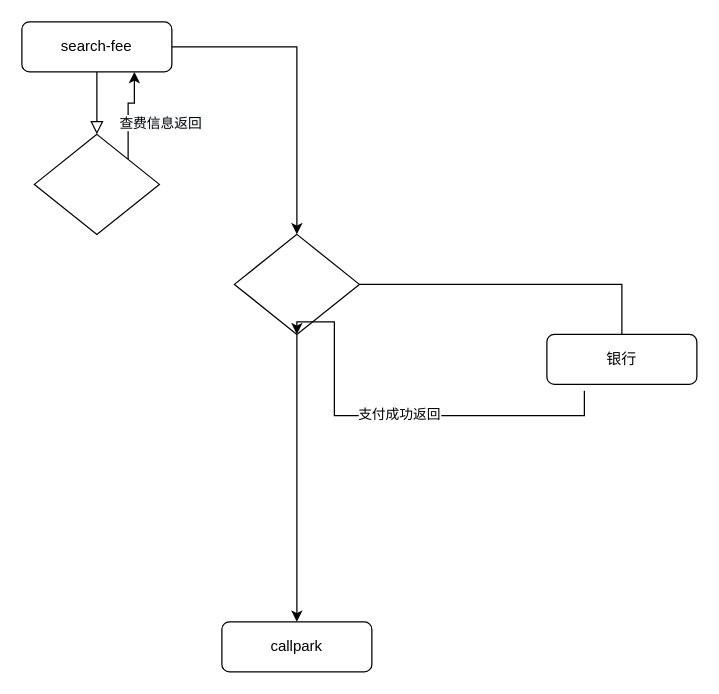
Some shapes in this 719 by 694 pixel diagram are drawn without their labels. The shapes that lost their labels are listed below. From the top down, each one's centre as x and y in pixels, then its label:
At pixel 96 183: "SJDF 蓝卡查费".
At pixel 296 283: "polymeric 支付".
